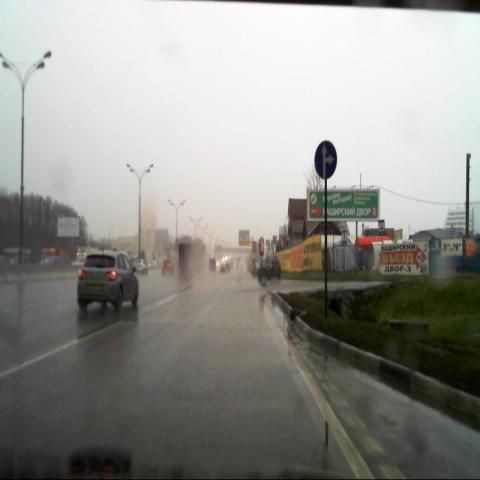4_1_4: (314, 141, 337, 180)
